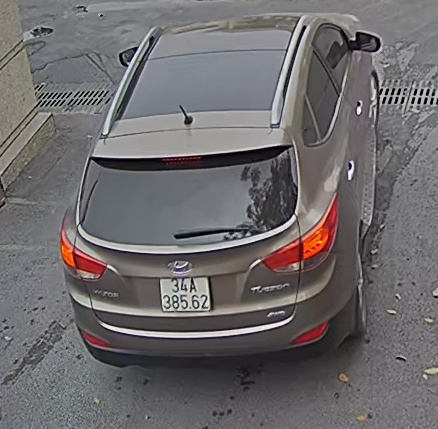vehicle plate: (154, 272, 218, 313)
